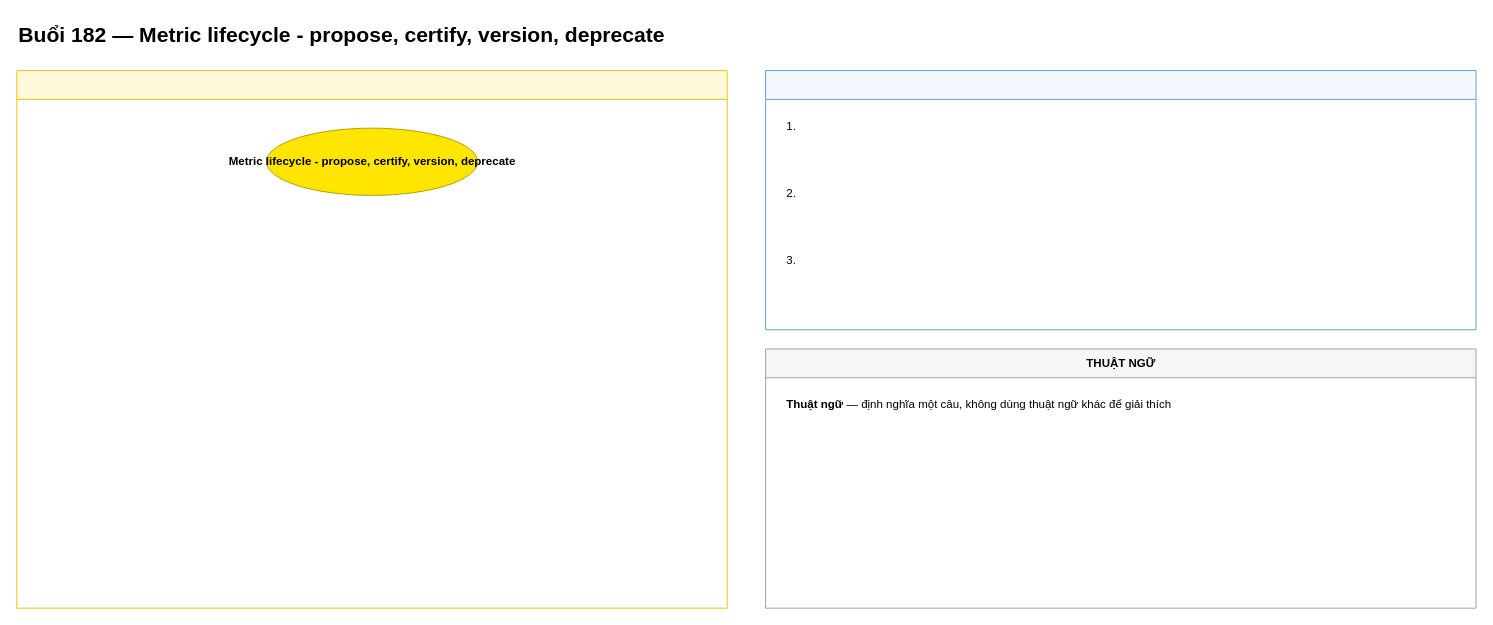
This 1493x625 diagram has some shape labels left out. The shapes that lost their labels are listed below. From the top down, each one's box as (x1, y1, x2, y2) in pixels, then its label:
(765, 70, 1476, 330): KEY TAKEAWAY — ba điều phải nhớ
(16, 70, 727, 608): MINDMAP
